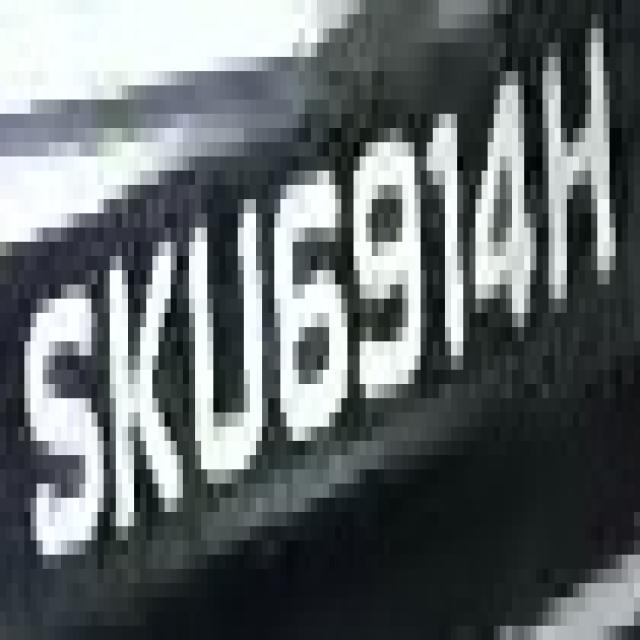1: (414, 85, 482, 427)
4: (463, 14, 542, 327)
6: (250, 142, 360, 470)
9: (335, 100, 433, 427)
H: (536, 14, 628, 370)
K: (97, 199, 189, 541)
S: (12, 256, 104, 583)
U: (177, 170, 274, 498)
